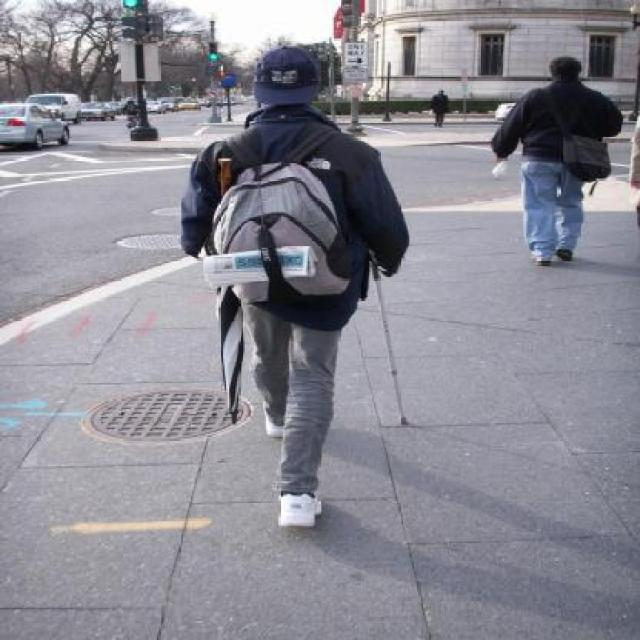backpack: (200, 126, 371, 320), (556, 128, 616, 188)
